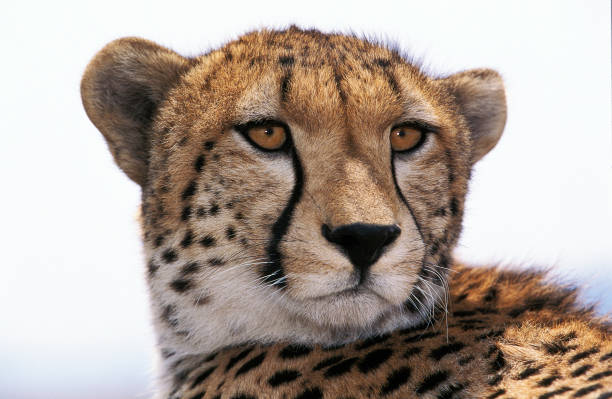cheetah: (68, 11, 520, 352)
